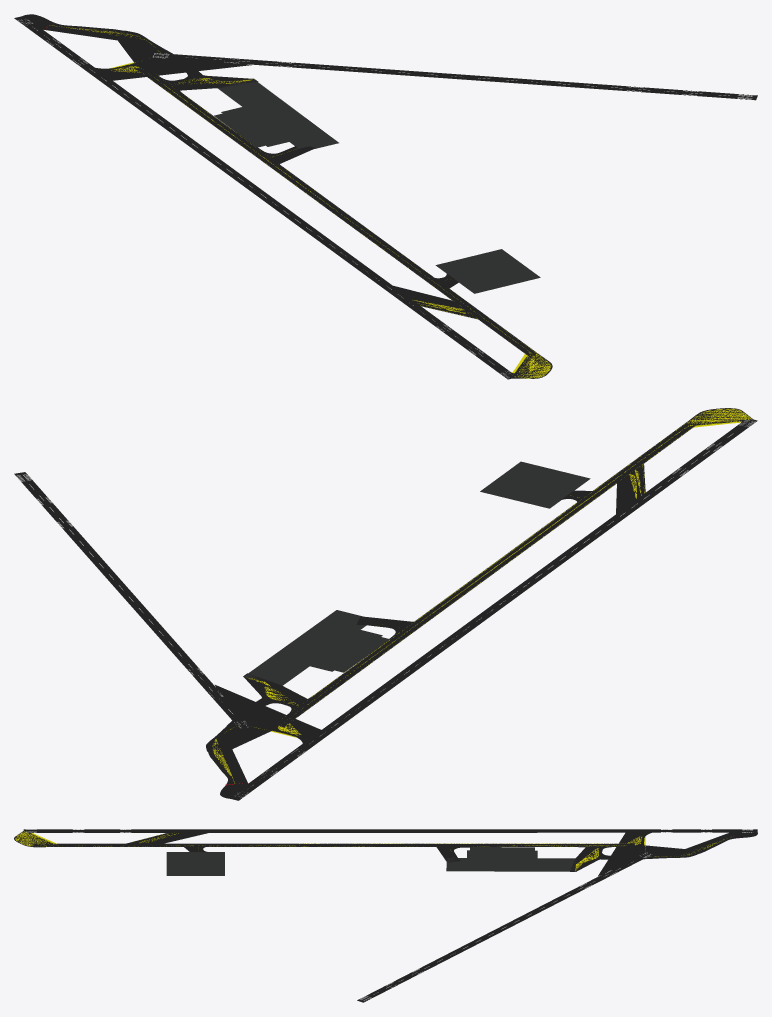
Rendered from runway.fbx.
3 views of the same model, one above another, from view 1: azimuth 30°, elevation 25°; view 2: azimuth 150°, elevation 25°; view 3: azimuth 270°, elevation 25° (orthographic). The views are drawn at different scales.
Parts seen in each view (by area): view 1: Plane.005; view 2: Plane.005; view 3: Plane.005.
Part boxes in pixels (bbox=[...]): Plane.005: bbox=[14, 14, 757, 379]; Plane.005: bbox=[14, 408, 757, 800]; Plane.005: bbox=[14, 829, 757, 1002].
Size of the model in its own units: 2158 by 0.000665 by 3909.
